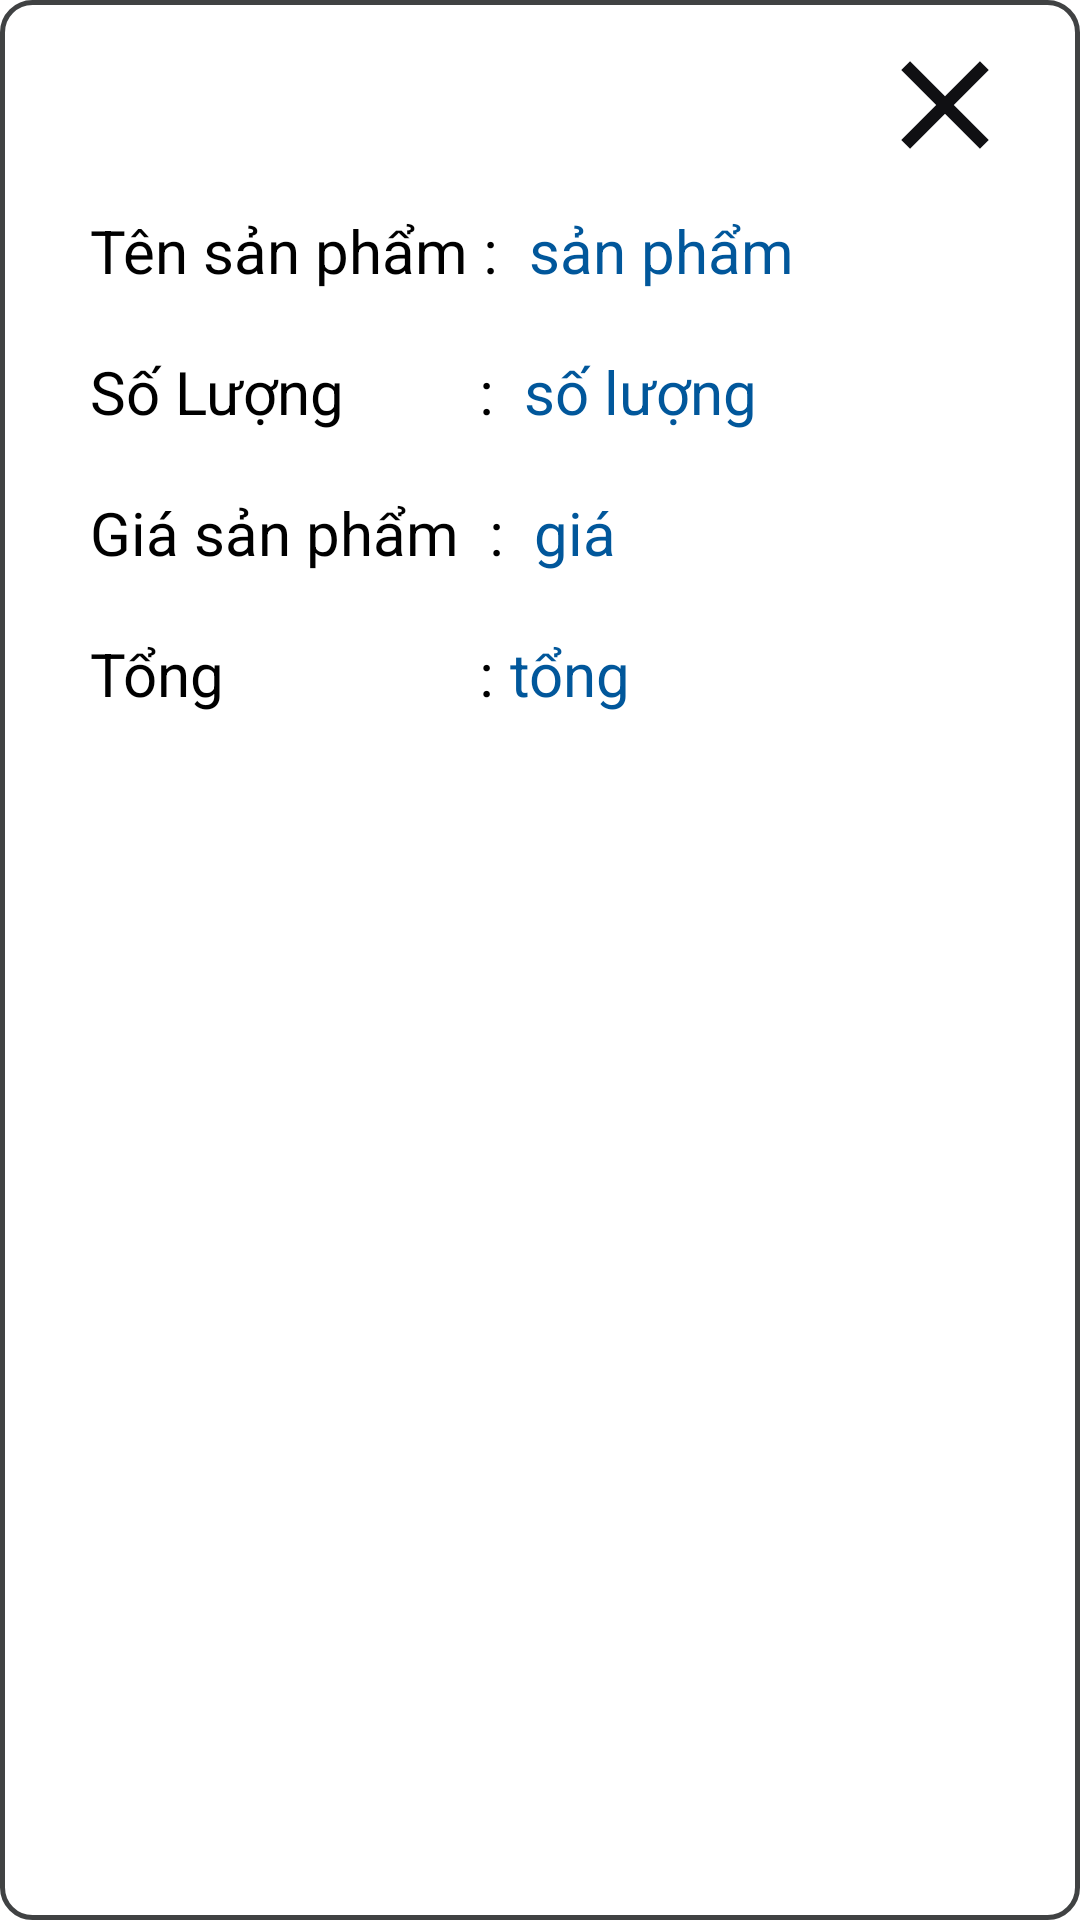

Screen size 1080 x 1920. Icon name, then its box in pixels as (x1, y1, x2, y2):
close: (901, 61, 989, 149)
